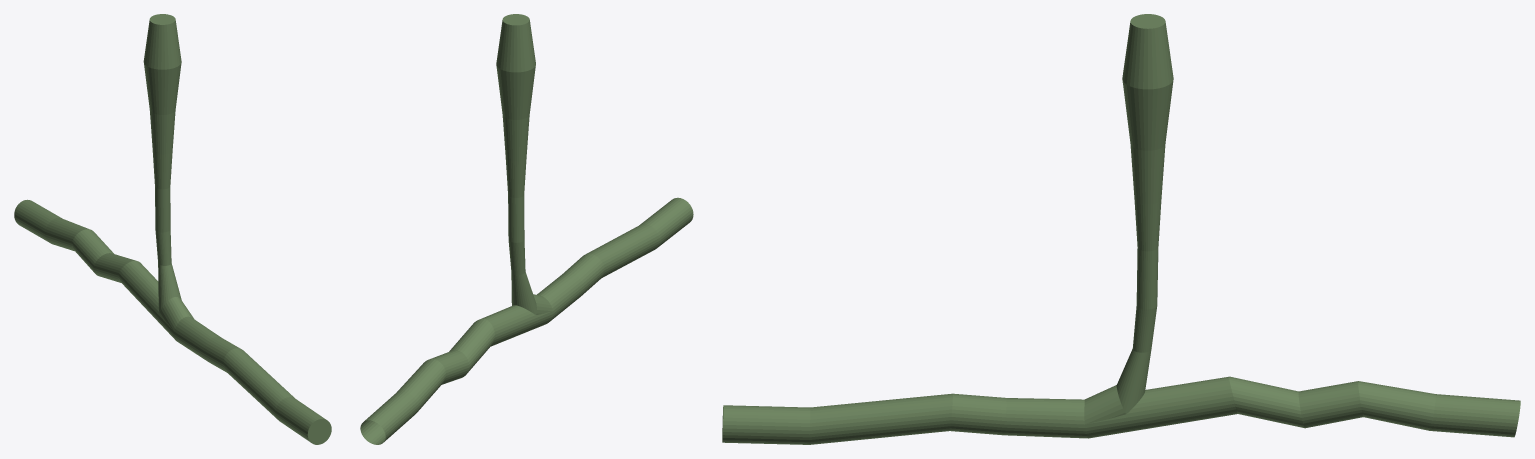
The model's file is spore 2.gltf.
The picture shows the model from 3 angles, left to right: view 1: azimuth 30°, elevation 25°; view 2: azimuth 150°, elevation 25°; view 3: azimuth 270°, elevation 25°; orthographic projection. The views are drawn at different scales.
Visible parts, largest first — view 1: Cylinder; view 2: Cylinder; view 3: Cylinder.
Boxes of the visible parts, x1=… form: Cylinder: x1=14, y1=14, x2=331, y2=444; Cylinder: x1=360, y1=14, x2=693, y2=444; Cylinder: x1=722, y1=14, x2=1520, y2=444.
Size of the model in its own units: 0.5612 by 5.08 by 8.72.
